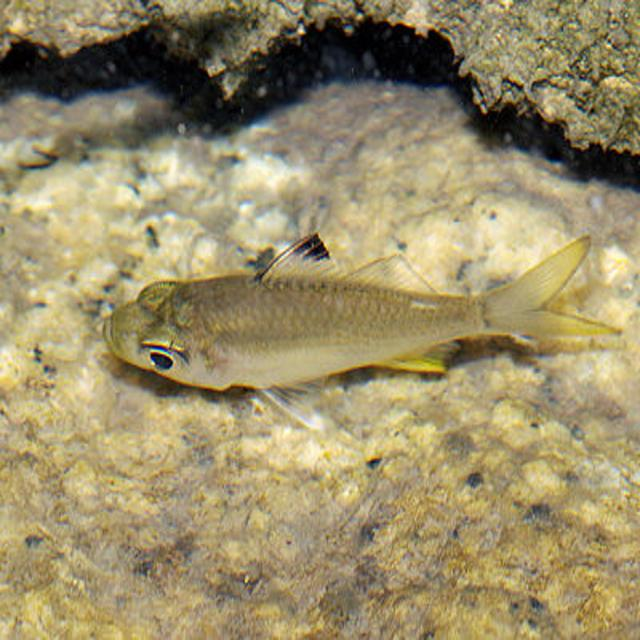Glass-Perchlet: (59, 135, 640, 536)
